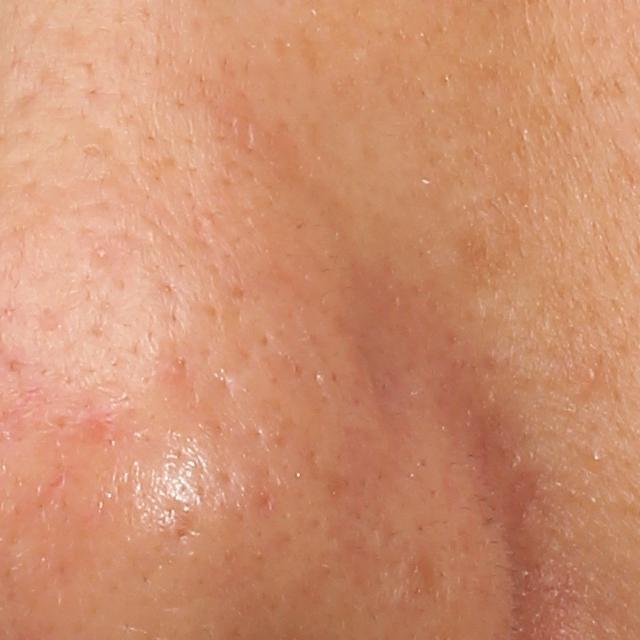comedo: (590, 450, 604, 465)
